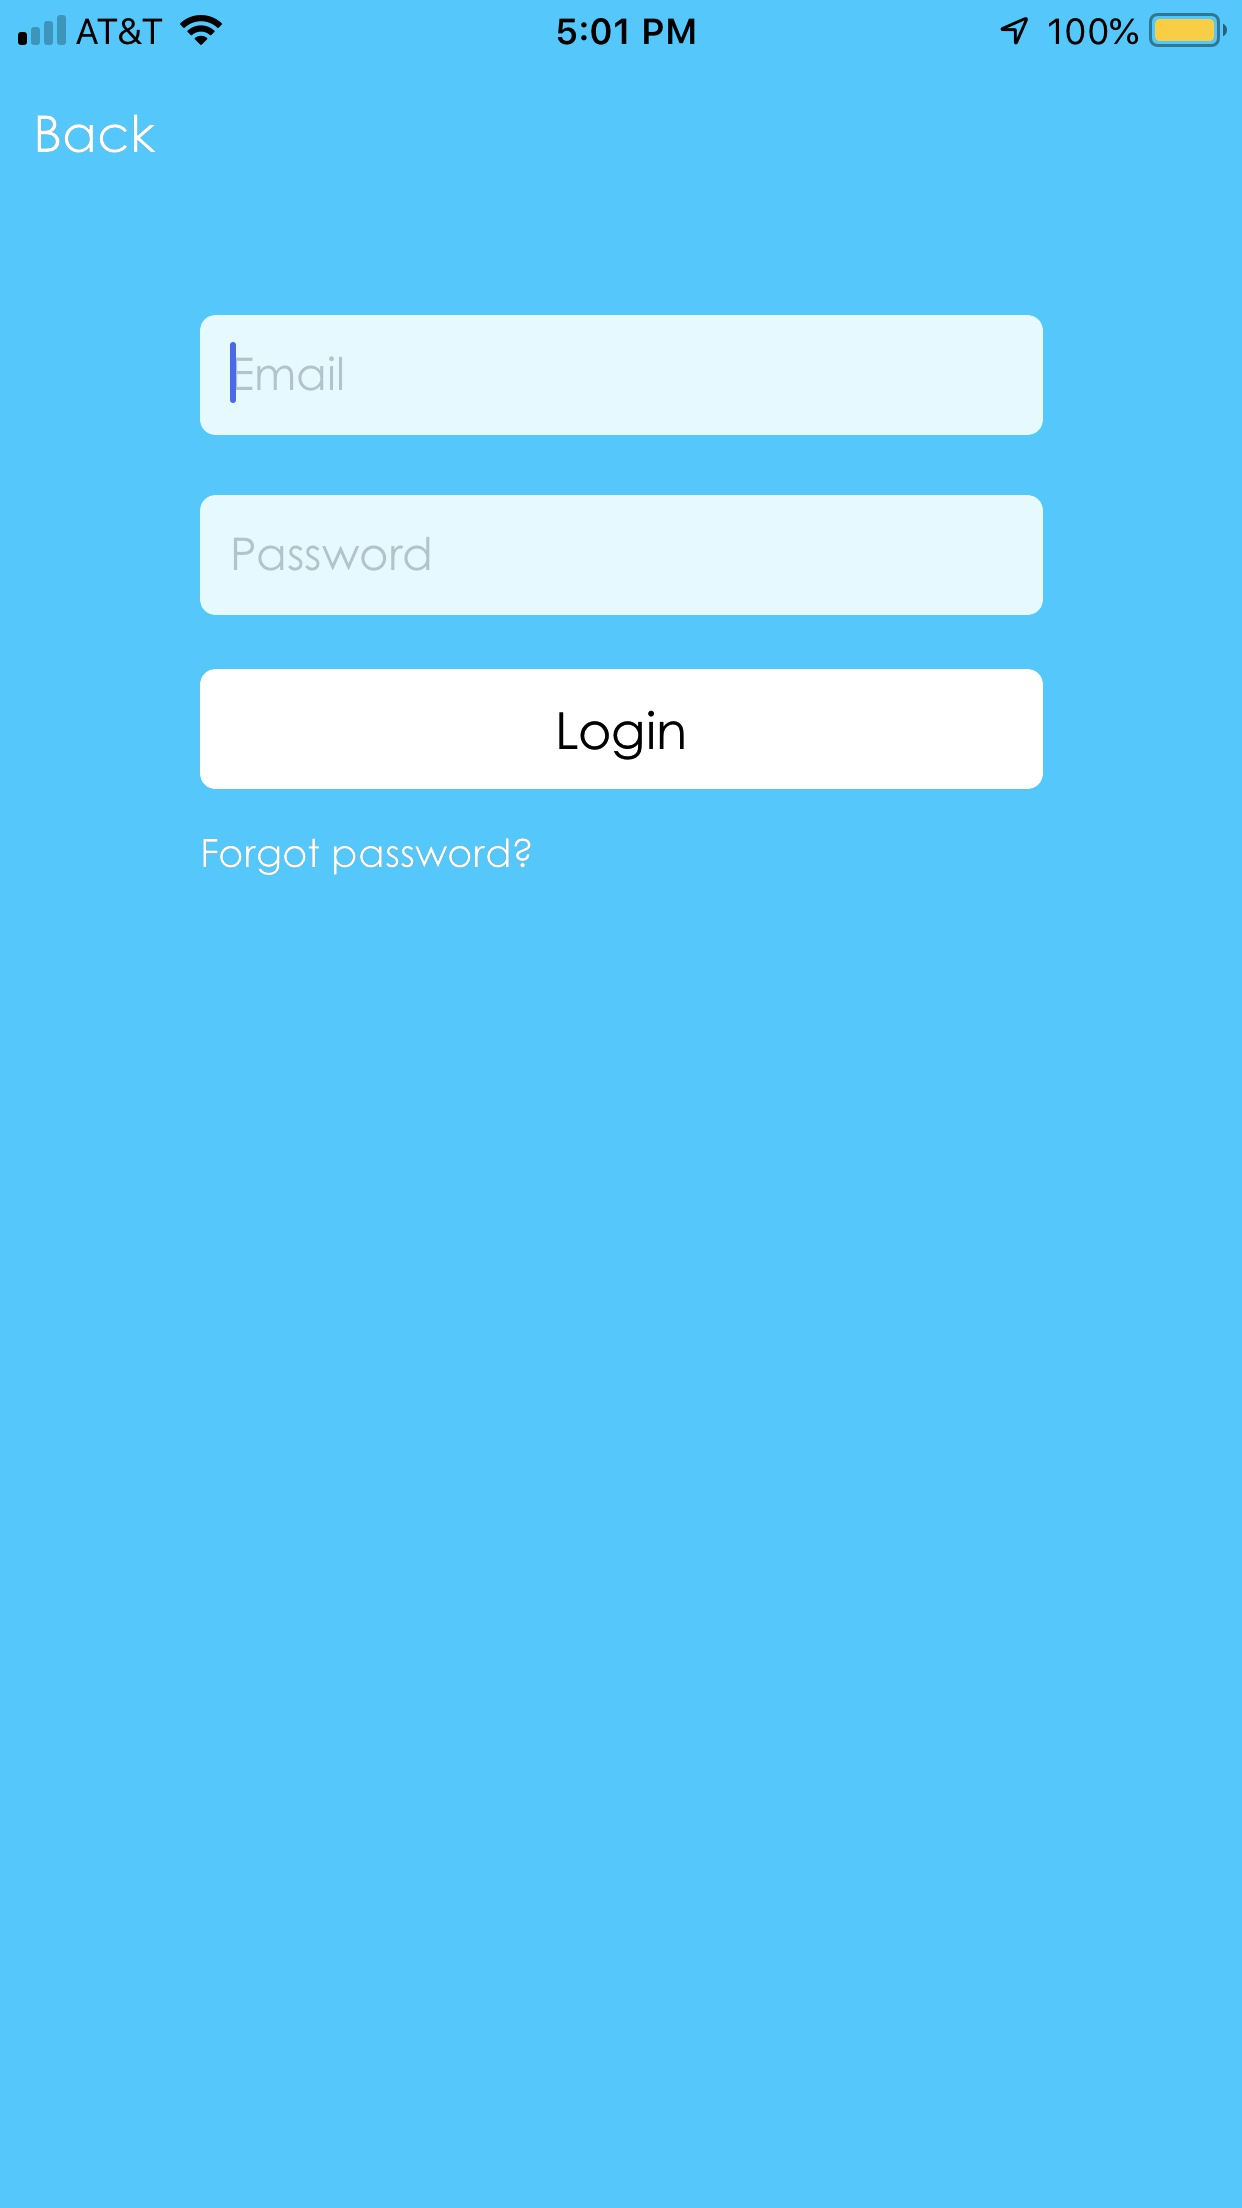EditText: (200, 494, 1043, 617), (200, 315, 1043, 437)
Text: (203, 839, 532, 877), (234, 537, 432, 572), (38, 115, 158, 155), (235, 356, 346, 391)
TextButton: (200, 667, 1043, 790)
UpperTaskBar: (2, 2, 1242, 49)
